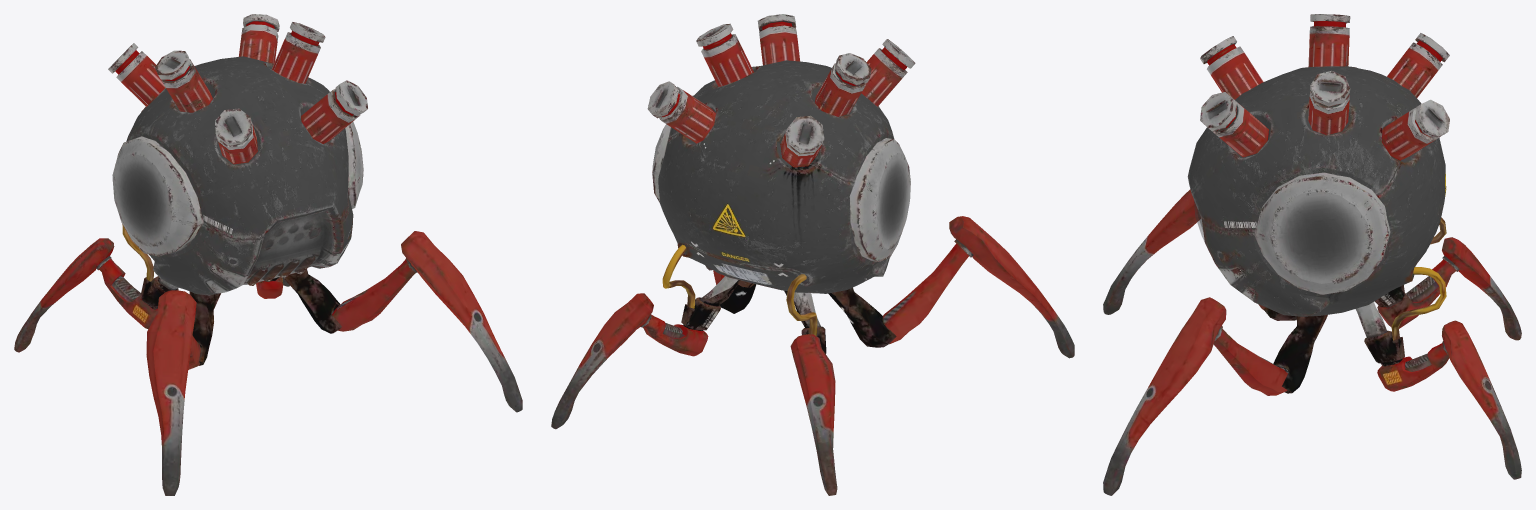
File: bomb_crawler.glb
3 renders of one model, left to right at view 1: azimuth 30°, elevation 25°; view 2: azimuth 150°, elevation 25°; view 3: azimuth 270°, elevation 25°, orthographic. The views are drawn at different scales.
Visible parts, largest first — view 1: Object_3, Object_2; view 2: Object_3; view 3: Object_3.
Part boxes in pixels (x1,y1,x2,y2): Object_3: (14,14,522,495); Object_2: (249,211,333,278); Object_3: (551,14,1074,495); Object_3: (1103,14,1521,495).
Size of the model in its own units: 0.0336 by 0.0309 by 0.0319.
2 materials, 2 textured.
